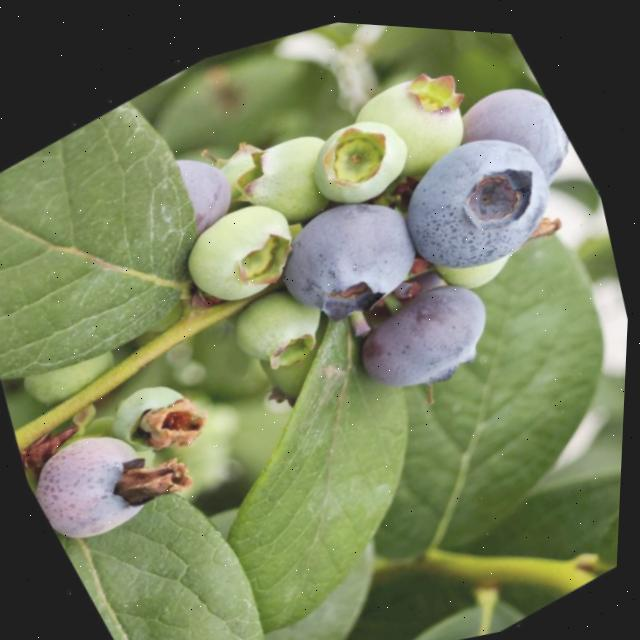RipeBlueBerry: (362, 85, 588, 303), (247, 155, 446, 347), (324, 244, 523, 418)
Semi-RipeBlueBerry: (8, 388, 181, 560)
UnripeBlueBerry: (155, 163, 325, 326)
